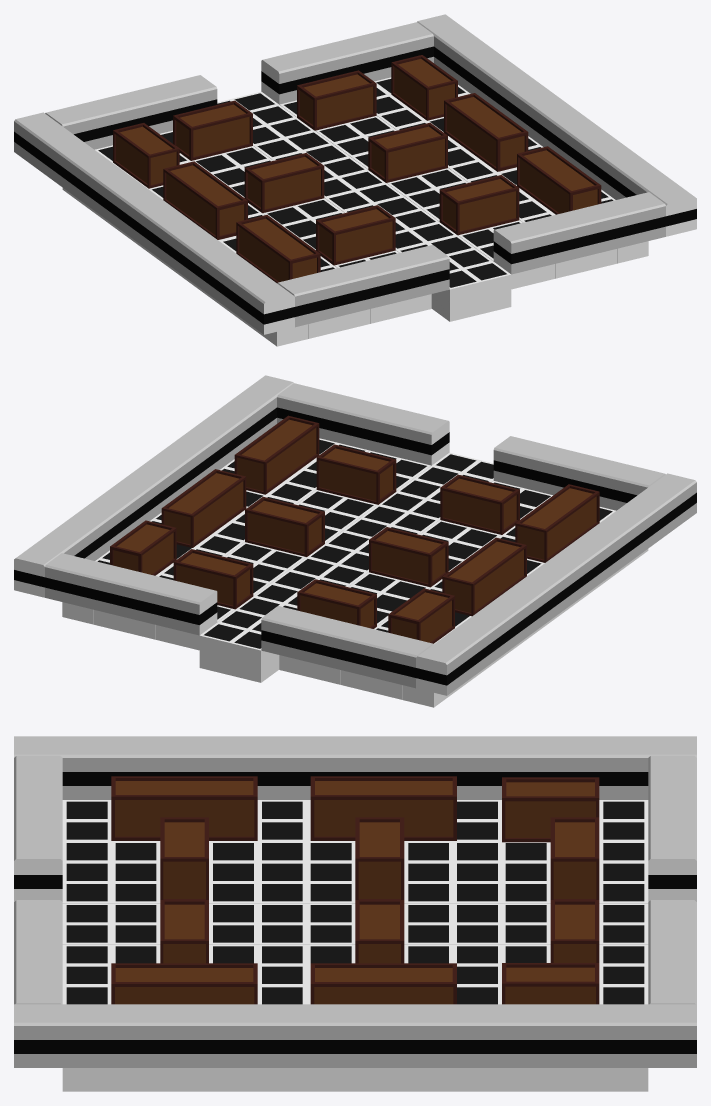
File: cargoSmall0.fbx
3 renders of one model, top to bottom at view 1: azimuth 30°, elevation 25°; view 2: azimuth 150°, elevation 25°; view 3: azimuth 270°, elevation 25°, orthographic. The views are drawn at different scales.
Visible parts, largest first — view 1: Cube.009, Cube.008, Cube.163, Cube.003, Cube.197, Cube.164, Cube.195, Cube.196, Cube.001, Cube.194, Cube.199, Cube.198 (+76 smaller); view 2: Cube.163, Cube.009, Cube.003, Cube.008, Cube.197, Cube.196, Cube.001, Cube.164, Cube.195, Cube.199, Cube.198, Cube.194 (+76 smaller); view 3: Cube.008, Cube.003, Cube.163, Cube.009, Cube.198, Cube.164, Cube.194, Cube.199, Cube.001, Cube.183, Cube.174, Cube.207 (+130 smaller).
Boxes of the visible parts, box(x1,y1,x2,y2) form: Cube.009: box(444, 93, 528, 171); Cube.008: box(163, 161, 247, 239); Cube.163: box(517, 146, 601, 214); Cube.003: box(236, 215, 320, 282); Cube.197: box(439, 175, 519, 235); Cube.164: box(244, 153, 324, 213); Cube.195: box(297, 70, 376, 130); Cube.196: box(368, 122, 447, 182); Cube.001: box(316, 205, 395, 265); Cube.194: box(173, 100, 252, 160); Cube.199: box(391, 55, 457, 120); Cube.198: box(113, 123, 179, 188); Cube.163: box(234, 415, 319, 494); Cube.009: box(161, 469, 246, 547); Cube.003: box(515, 484, 599, 562); Cube.008: box(442, 537, 526, 616); Cube.197: box(316, 444, 396, 504); Cube.196: box(245, 496, 324, 556); Cube.001: box(440, 474, 519, 534); Cube.164: box(369, 527, 448, 587); Cube.195: box(173, 549, 253, 609); Cube.199: box(110, 520, 176, 575); Cube.198: box(388, 588, 454, 643); Cube.194: box(297, 579, 376, 628); Cube.008: box(310, 776, 456, 840); Cube.003: box(111, 776, 257, 840); Cube.163: box(111, 963, 257, 1004); Cube.009: box(310, 963, 456, 1004); Cube.198: box(502, 777, 599, 842); Cube.164: box(355, 817, 404, 899); Cube.194: box(550, 817, 599, 899); Cube.199: box(502, 963, 599, 1004); Cube.001: box(160, 817, 208, 899); Cube.183: box(62, 736, 111, 799); Cube.174: box(599, 736, 648, 799); Cube.207: box(599, 1004, 648, 1067).
Bounding box in the file's own units: 2800 × 400 × 2800.
